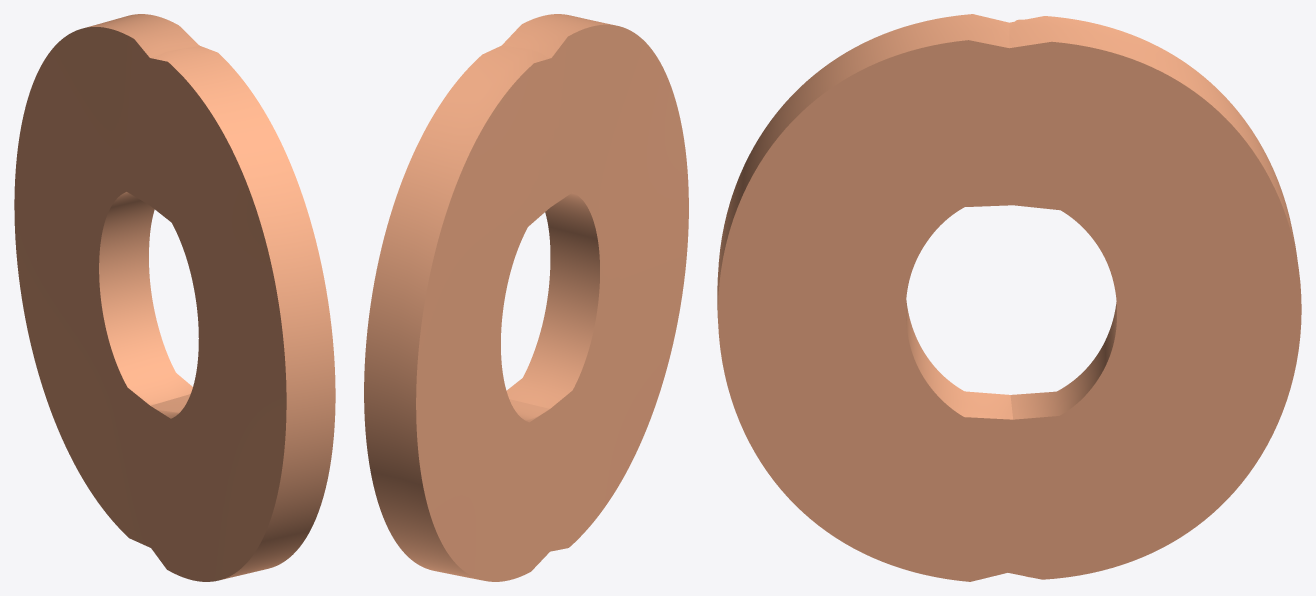
Rendered from sample_02_output.obj.
The picture shows the model from 3 angles, left to right: view 1: azimuth 30°, elevation 25°; view 2: azimuth 150°, elevation 25°; view 3: azimuth 270°, elevation 25°; orthographic projection. The views are drawn at different scales.
Parts seen in each view (by area): view 1: mesh2, mesh1, mesh5, mesh0, mesh4; view 2: mesh2, mesh0, mesh4, mesh1, mesh5; view 3: mesh3, mesh1, mesh0, mesh4, mesh5.
Part boxes in pixels (x1,y1,x2,y2): mesh2: (14,27,286,581); mesh1: (151,45,335,579); mesh5: (99,192,192,405); mesh0: (86,14,199,57); mesh4: (150,394,190,418); mesh2: (416,24,688,581); mesh0: (364,45,550,580); mesh4: (506,192,599,408); mesh1: (502,14,614,57); mesh5: (509,399,549,422); mesh3: (718,40,1301,581); mesh1: (717,14,1009,328); mesh0: (1009,16,1298,577); mesh4: (906,300,1012,419); mesh5: (1010,302,1116,419).
Bounding box in the file's own units: 3.88e-05 × 0.00037 × 0.000361.
